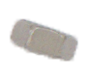Standing-Nut: (7, 16, 81, 65)
